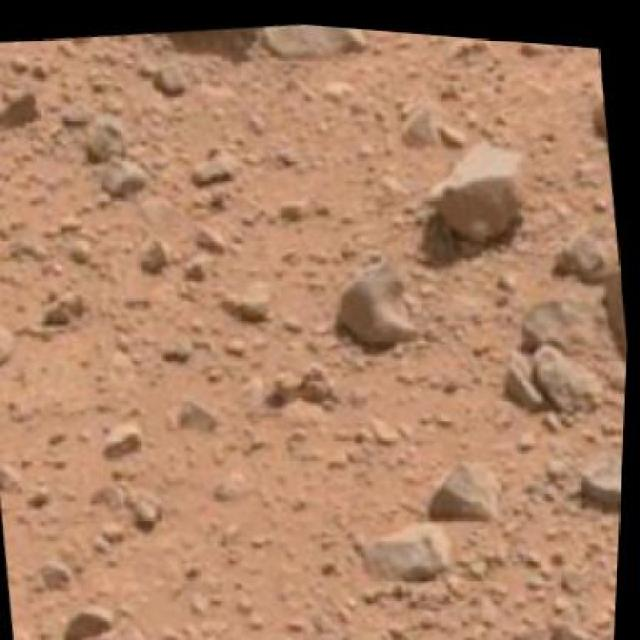rock: (414, 108, 548, 260), (325, 229, 429, 354), (22, 618, 326, 638), (593, 242, 632, 380)
